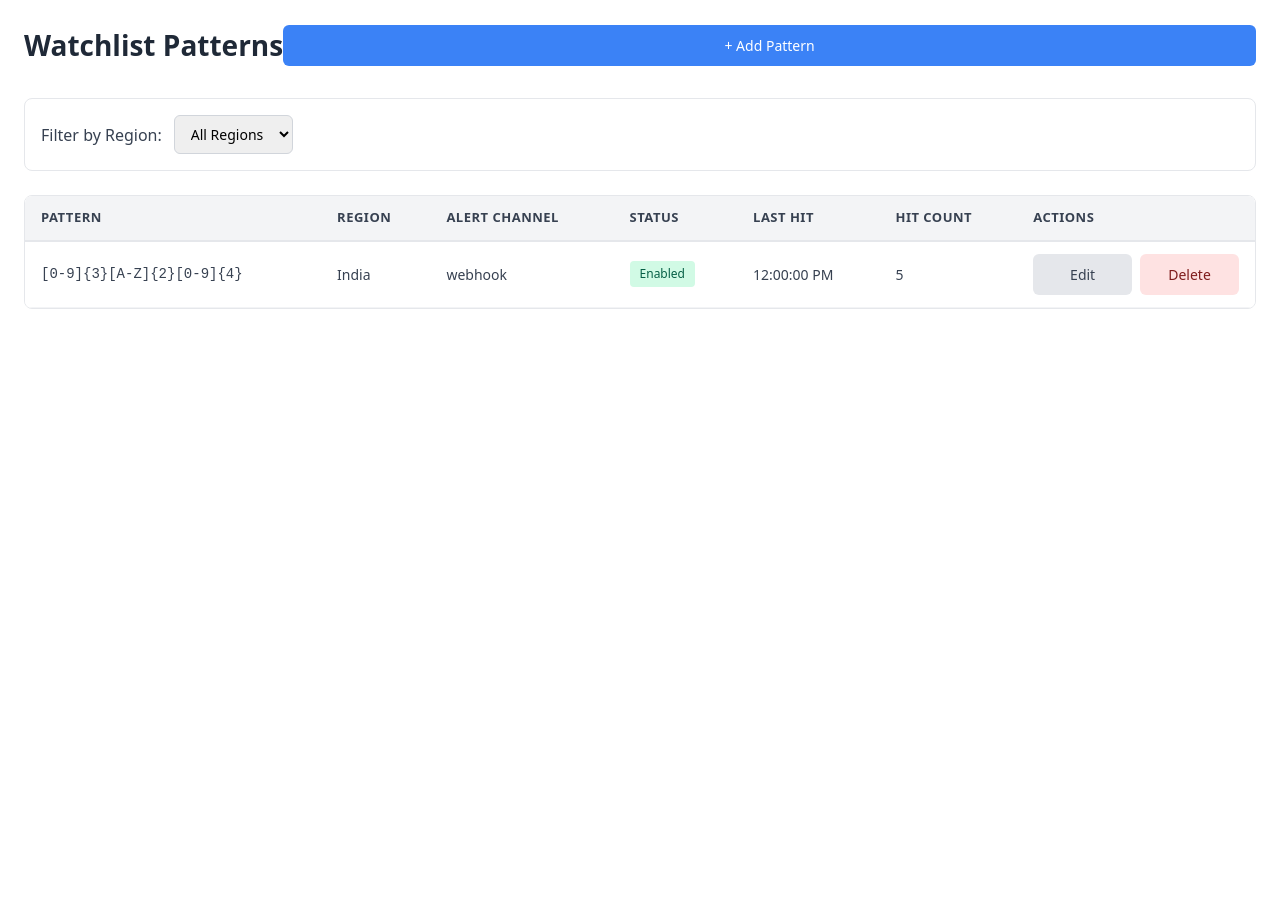
WatchlistPage › should show form when add button clicked
The image size is (1280, 900).
Click the button "+ Add Pattern": coordinates (770, 45) 283,24 -> 1256,66
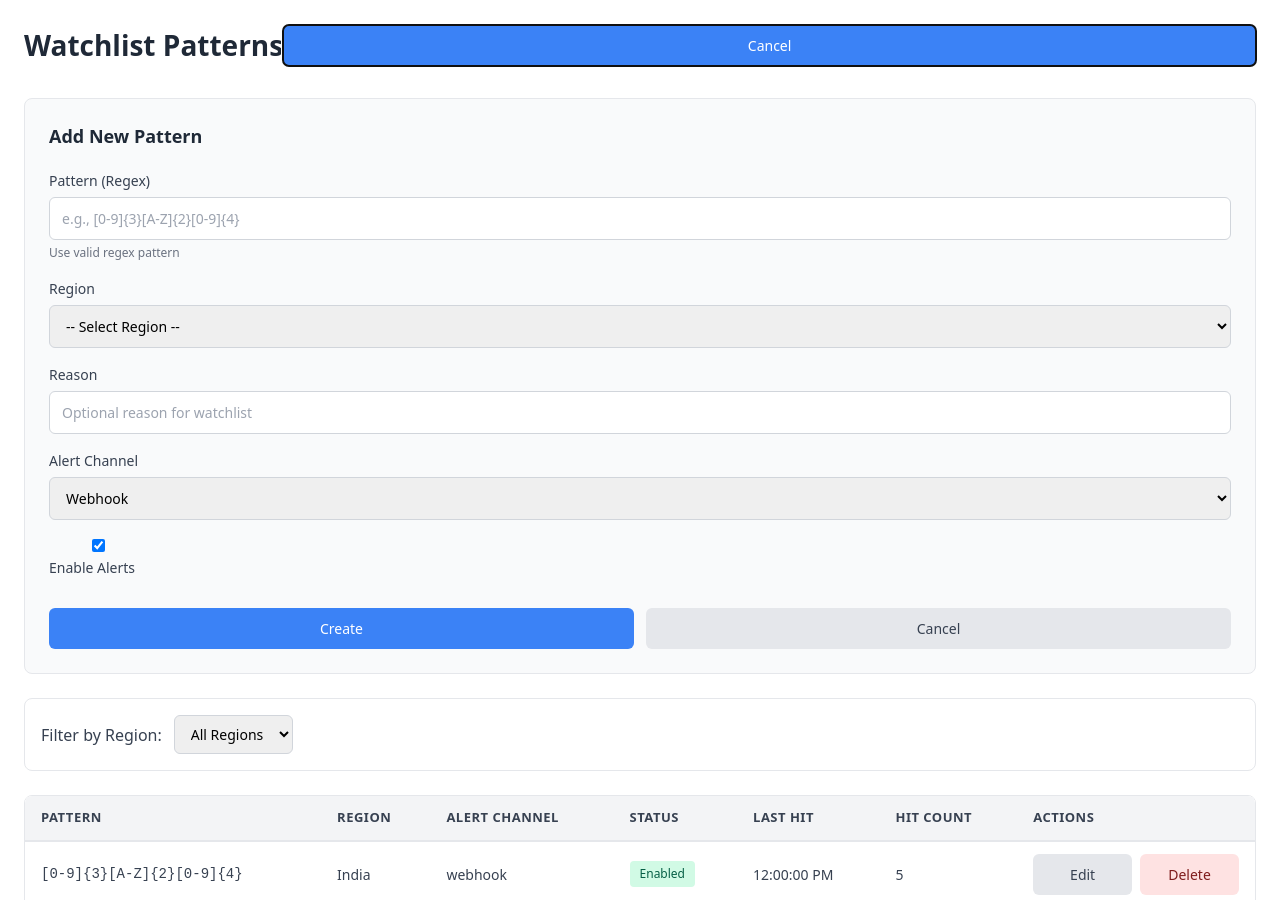
Expected: the heading "Add New Pattern" is shown, 49,124 -> 202,148
Expected: the field with test id "pattern-input" is shown, 49,197 -> 1231,240
Expected: the dropdown with test id "region-select" is shown, 49,305 -> 1231,348
